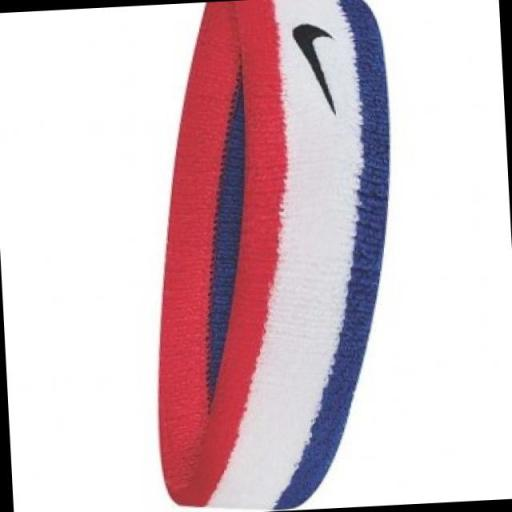Nike: (289, 16, 344, 122)
